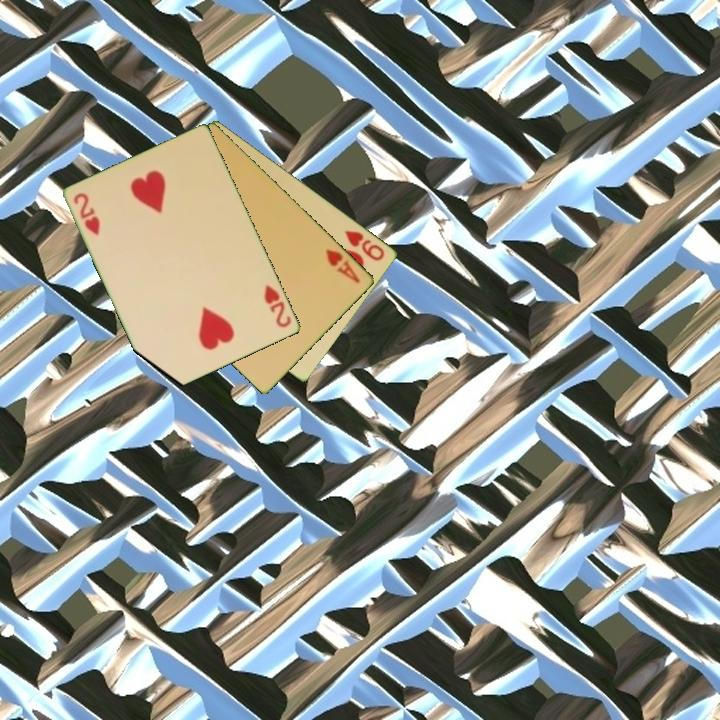2h: (261, 281, 294, 331), (70, 189, 103, 238)
9h: (342, 227, 388, 264)
Ah: (323, 245, 364, 286)
